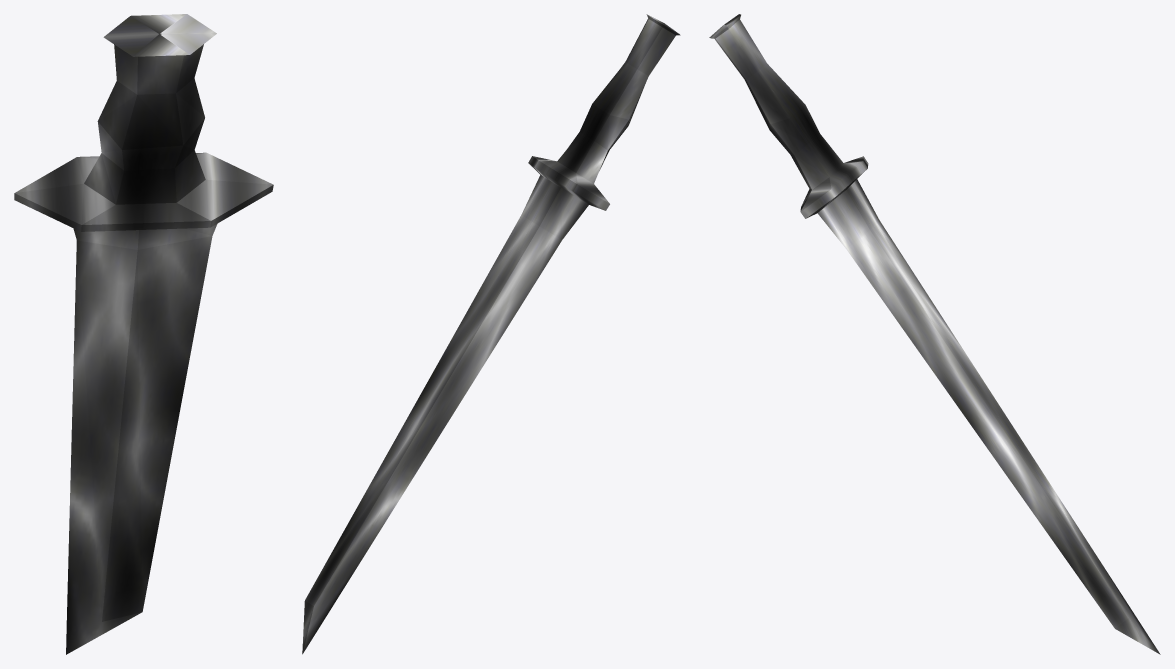
The picture shows the model from 3 angles, left to right: view 1: azimuth 30°, elevation 25°; view 2: azimuth 150°, elevation 25°; view 3: azimuth 270°, elevation 25°; orthographic projection. The views are drawn at different scales.
Visible parts, largest first — view 1: J5; view 2: J5; view 3: J5.
Boxes of the visible parts, x1=… form: J5: x1=14, y1=14, x2=273, y2=654; J5: x1=302, y1=14, x2=680, y2=654; J5: x1=709, y1=14, x2=1160, y2=654.
Size of the model in its own units: 0.9303 by 2.35 by 1.73.
